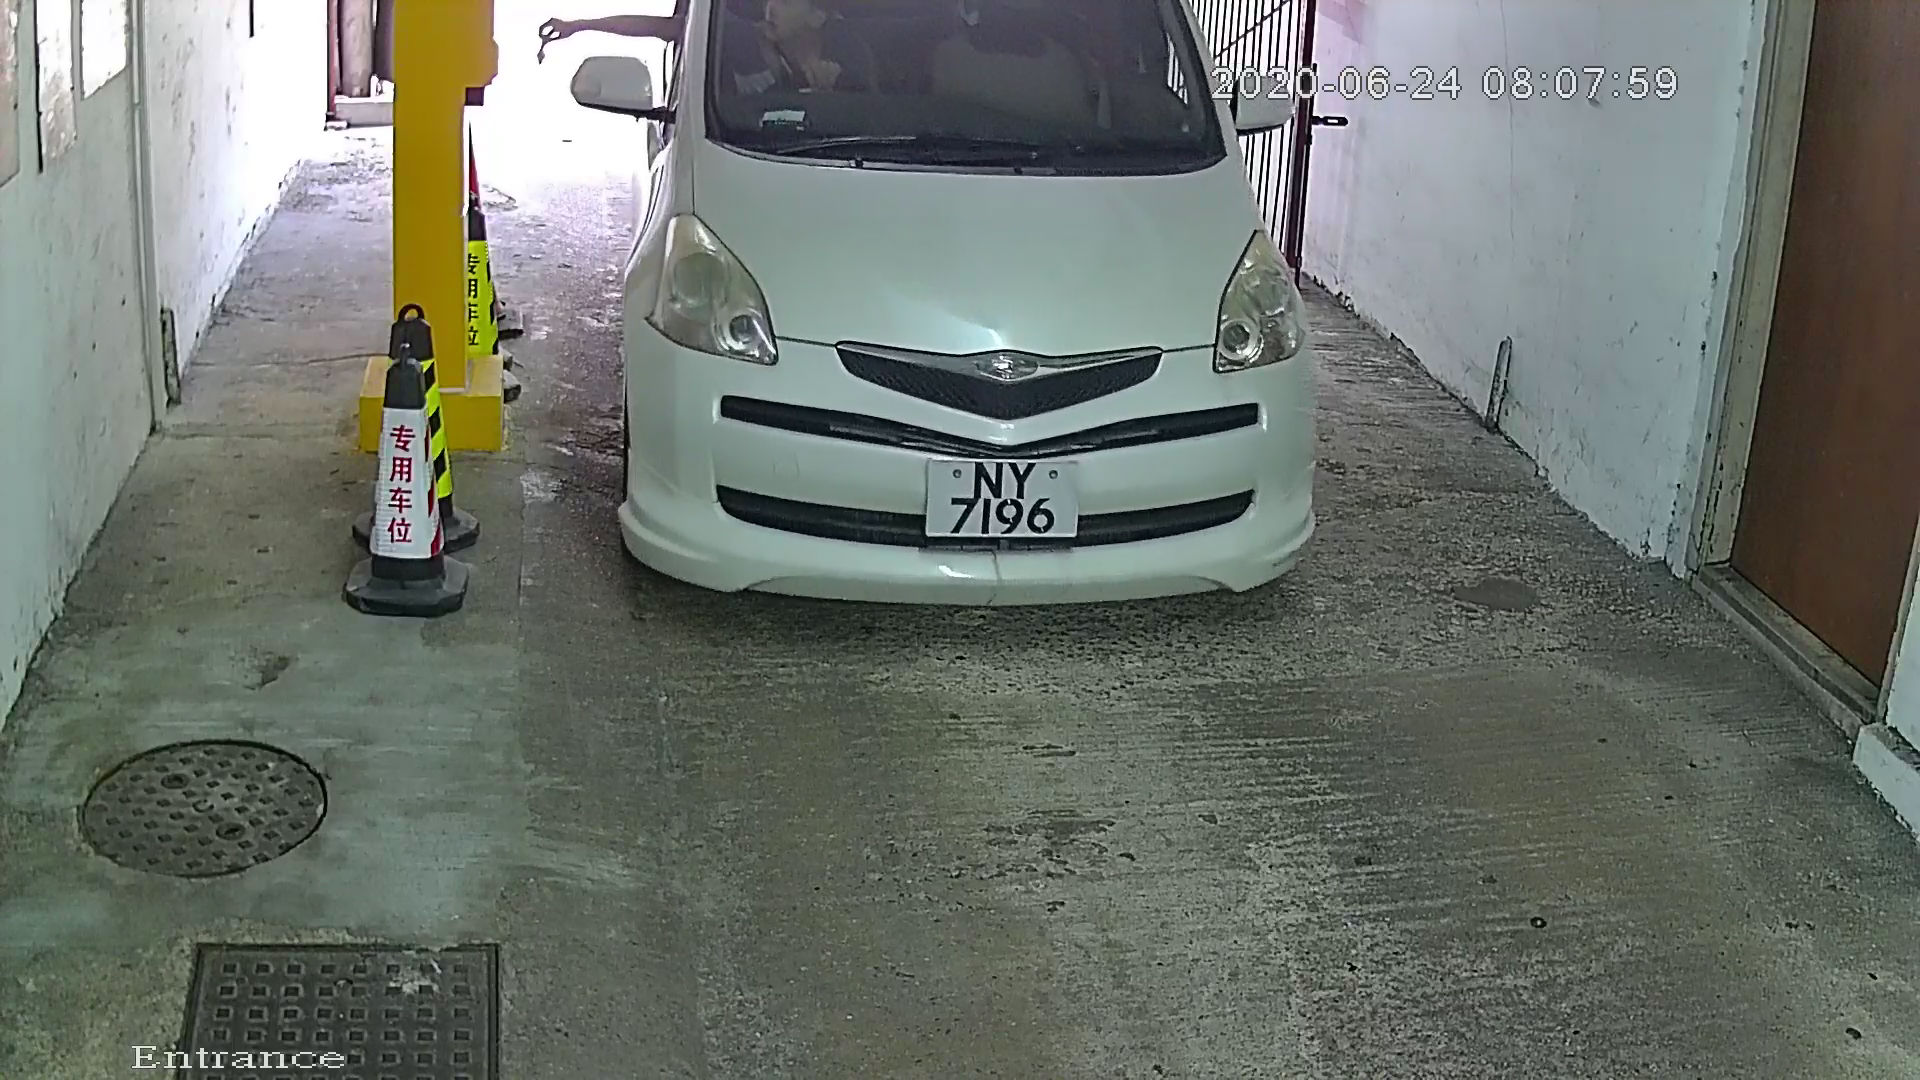privatecar: (535, 1, 1389, 658)
